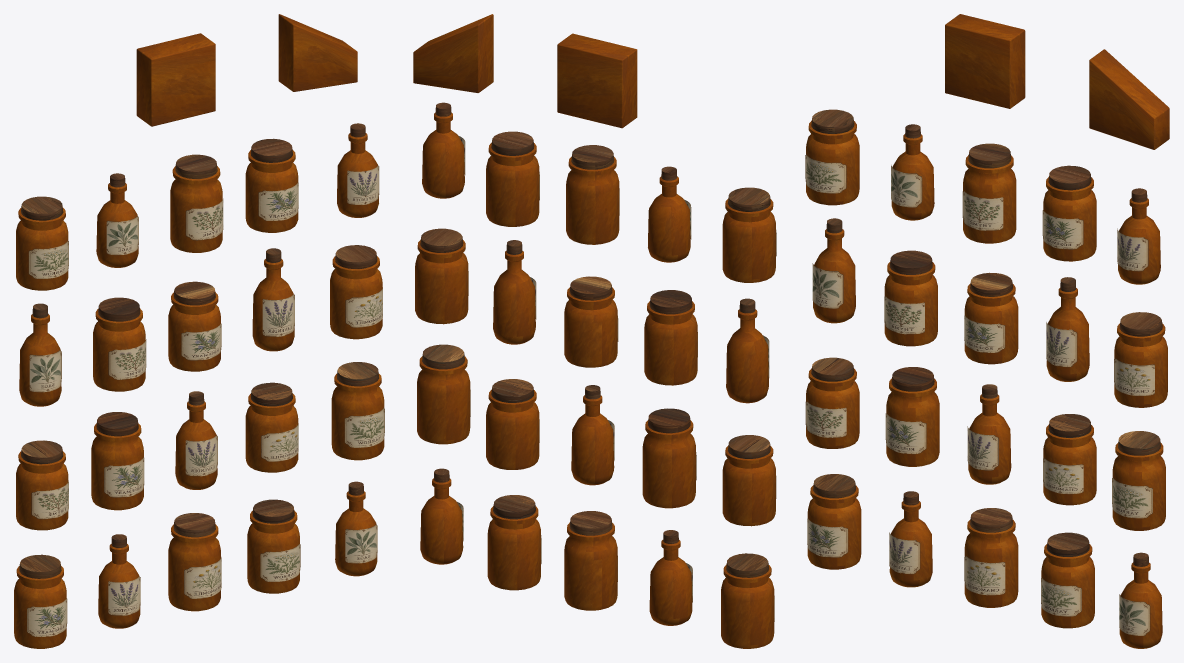
The model's file is CM_SW13_RemedyDisplay.fbx.
3 renders of one model, left to right at view 1: azimuth 30°, elevation 25°; view 2: azimuth 150°, elevation 25°; view 3: azimuth 330°, elevation 25°, orthographic.
Visible parts, largest first — view 1: CM_SW13_RemedyDisplay; view 2: CM_SW13_RemedyDisplay; view 3: CM_SW13_RemedyDisplay.
Boxes of the visible parts, x1=… form: CM_SW13_RemedyDisplay: x1=14, y1=14, x2=384, y2=648; CM_SW13_RemedyDisplay: x1=413, y1=14, x2=776, y2=648; CM_SW13_RemedyDisplay: x1=805, y1=14, x2=1169, y2=648.
Size of the model in its own units: 1.42 by 2.13 by 0.25.
